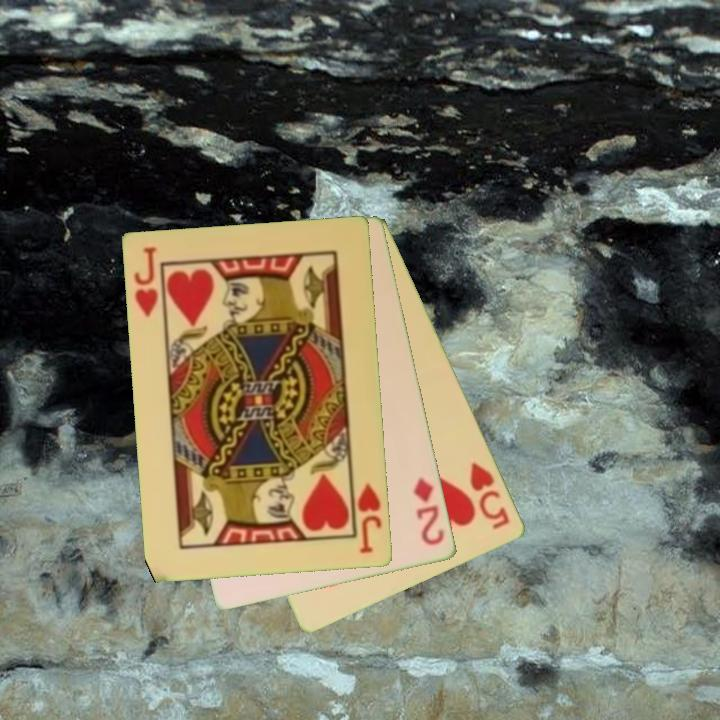2d: (410, 474, 448, 549)
5h: (466, 459, 513, 533)
Jh: (354, 480, 385, 557), (131, 244, 161, 321)
